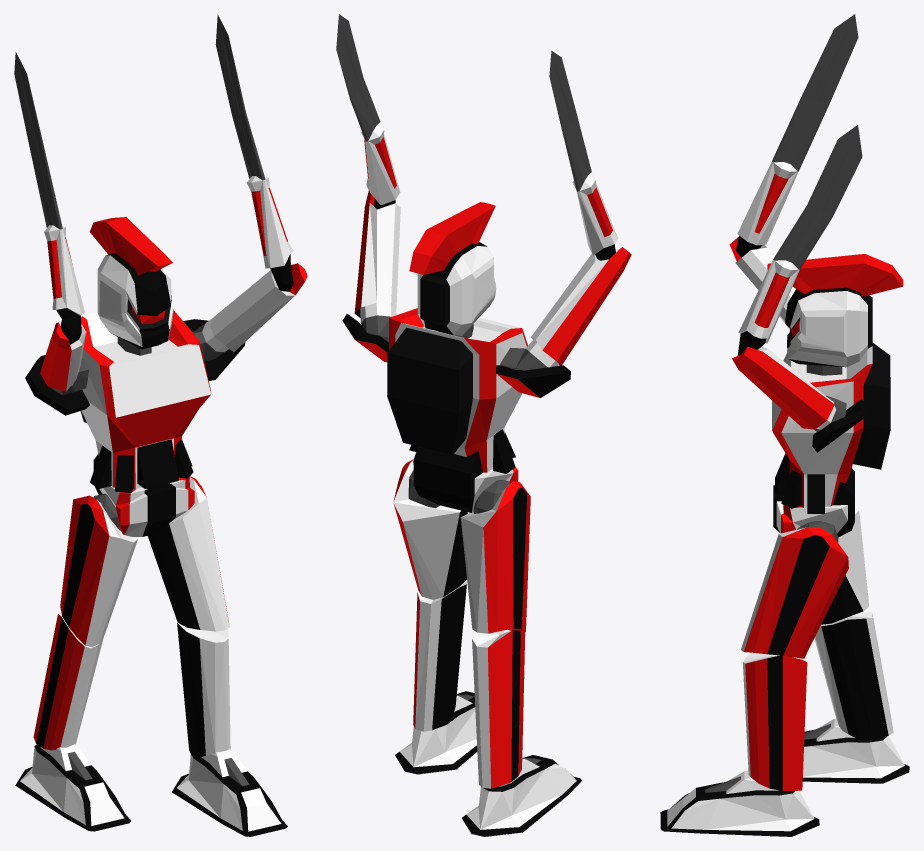
Rendered from robots_000008.obj.
3 renders of one model, left to right at view 1: azimuth 30°, elevation 25°; view 2: azimuth 150°, elevation 25°; view 3: azimuth 270°, elevation 25°, orthographic. The views are drawn at different scales.
Parts seen in each view (by area): view 1: Chest_plate_Cube.004, R_Forearm.002_Cube.033, Head_gladiator_Cube.024, R_Thigh_Cube.005, R_Forearm.001_Cube.028, R_Thigh.002_Cube.027, R_Shin.002_Cube.029, R_Foot_Cube, R_Foot.002_Cube.035, R_Shin_Cube.007, Pelvis_Cube.006, R_Arm.002_Cube.032 (+1 smaller); view 2: Chest_plate_Cube.004, R_Forearm.001_Cube.028, Head_gladiator_Cube.024, R_Thigh_Cube.005, R_Forearm.002_Cube.033, R_Shin_Cube.007, R_Shin.002_Cube.029, R_Thigh.002_Cube.027, R_Foot_Cube, Pelvis_Cube.006, R_Foot.002_Cube.035, R_Arm.002_Cube.032 (+2 smaller); view 3: R_Forearm.002_Cube.033, Chest_plate_Cube.004, Head_gladiator_Cube.024, R_Thigh.002_Cube.027, R_Forearm.001_Cube.028, R_Shin.002_Cube.029, R_Shin_Cube.007, R_Foot.002_Cube.035, R_Foot_Cube, R_Thigh_Cube.005, Pelvis_Cube.006, R_Arm.003_Cube.034.
Part boxes in pixels (box(x1,y1,x2,y2)): Chest_plate_Cube.004: box(80, 310, 211, 492); R_Forearm.002_Cube.033: box(210, 14, 307, 351); Head_gladiator_Cube.024: box(89, 217, 173, 349); R_Thigh_Cube.005: box(60, 495, 138, 647); R_Forearm.001_Cube.028: box(14, 52, 86, 391); R_Thigh.002_Cube.027: box(148, 476, 229, 631); R_Shin.002_Cube.029: box(177, 621, 230, 758); R_Foot_Cube: box(15, 744, 130, 831); R_Foot.002_Cube.035: box(172, 749, 287, 836); R_Shin_Cube.007: box(33, 613, 104, 750); Pelvis_Cube.006: box(93, 454, 194, 536); R_Arm.002_Cube.032: box(25, 355, 89, 415); Chest_plate_Cube.004: box(387, 308, 527, 473); R_Forearm.001_Cube.028: box(530, 50, 631, 365); Head_gladiator_Cube.024: box(409, 202, 496, 335); R_Thigh_Cube.005: box(460, 481, 530, 633); R_Forearm.002_Cube.033: box(336, 14, 400, 317); R_Shin_Cube.007: box(472, 629, 525, 788); R_Shin.002_Cube.029: box(413, 581, 466, 731); R_Thigh.002_Cube.027: box(393, 459, 467, 599); R_Foot_Cube: box(462, 755, 581, 836); Pelvis_Cube.006: box(412, 446, 518, 512); R_Foot.002_Cube.035: box(395, 691, 477, 774); R_Arm.002_Cube.032: box(496, 339, 570, 397); R_Forearm.002_Cube.033: box(732, 125, 862, 429); Chest_plate_Cube.004: box(772, 343, 890, 513); Head_gladiator_Cube.024: box(767, 254, 903, 367); R_Thigh.002_Cube.027: box(741, 527, 848, 658); R_Forearm.001_Cube.028: box(729, 14, 858, 329); R_Shin.002_Cube.029: box(742, 652, 807, 790); R_Shin_Cube.007: box(814, 607, 893, 739); R_Foot.002_Cube.035: box(660, 770, 819, 836); R_Foot_Cube: box(802, 718, 909, 783); R_Thigh_Cube.005: box(821, 502, 868, 624); Pelvis_Cube.006: box(773, 468, 854, 537); R_Arm.003_Cube.034: box(812, 395, 866, 452).
Size of the model in its own units: 1.51 by 4.31 by 1.32.
